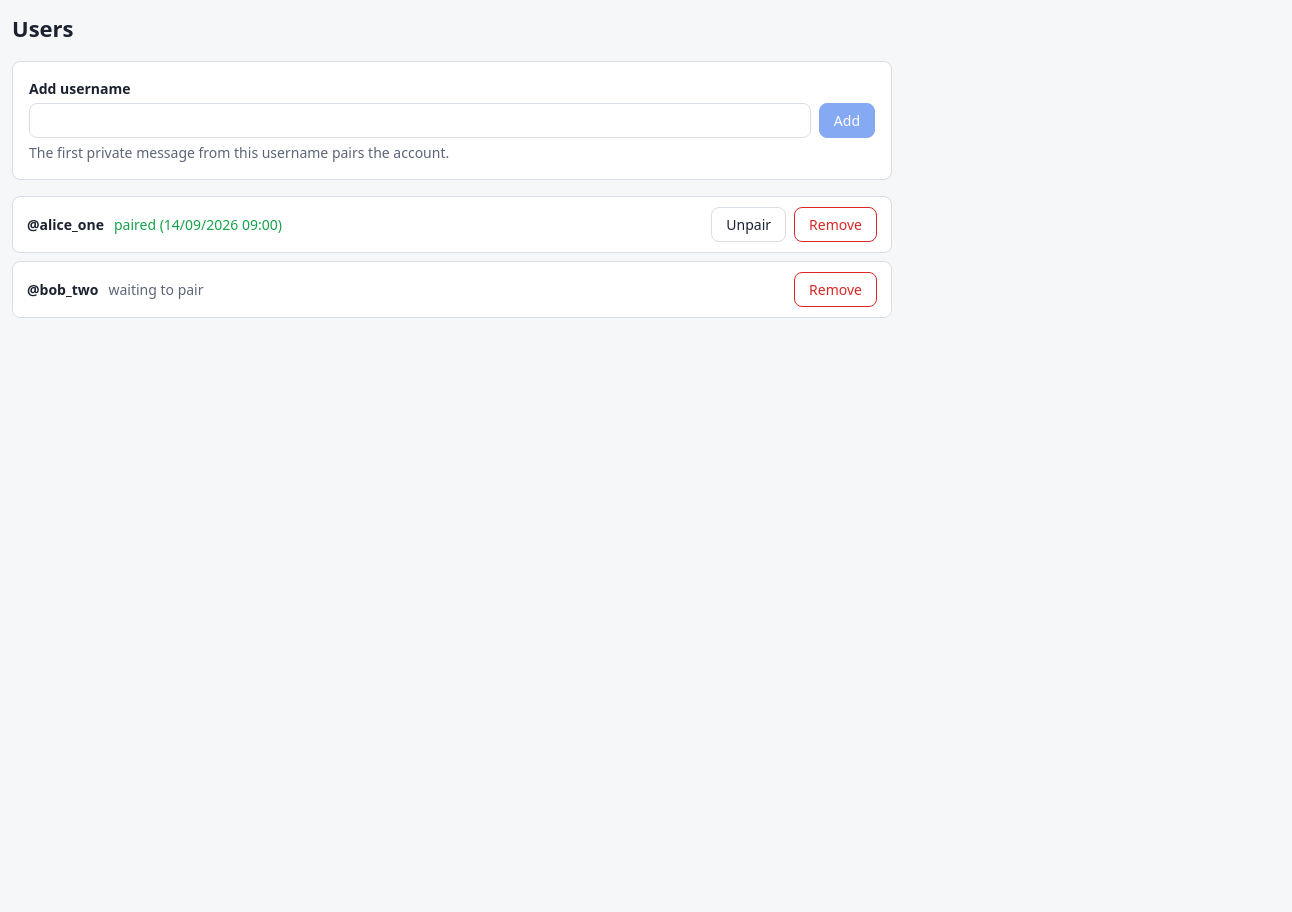
Test case: UsersScreen › unpairs a user and offers a restart when the running bot could not be told
Click the button "Unpair". click: (749, 224)
box: [711,207,786,242]
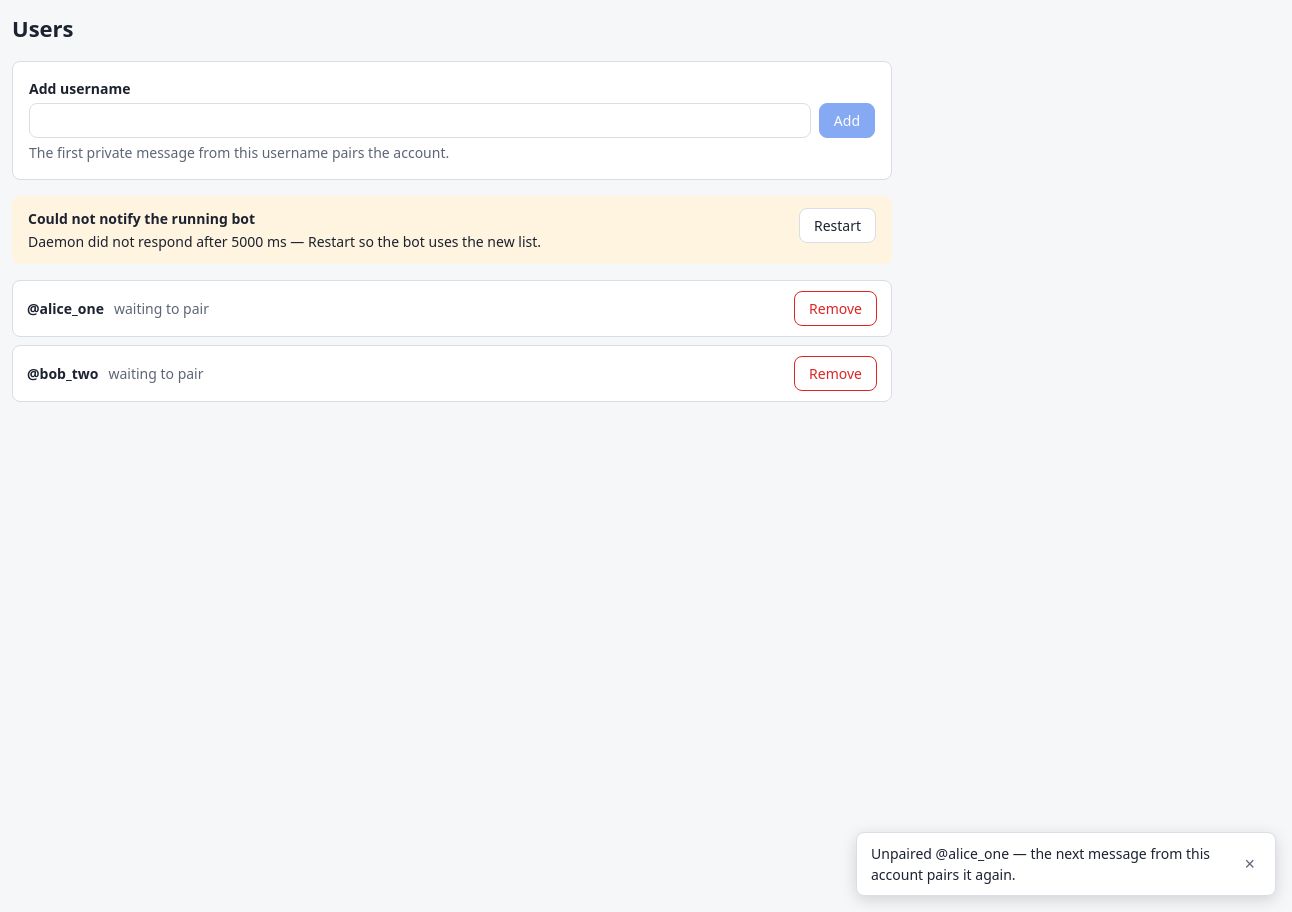
Check: the text "Daemon did not respond after 5000 ms — Restart so the bot uses the new list." is shown, box [28,232,541,251]
Check: the 1st text "waiting to pair" is shown, box [114,299,209,318]
Click the button "Restart". click: (837, 226)
box: [799,208,876,243]
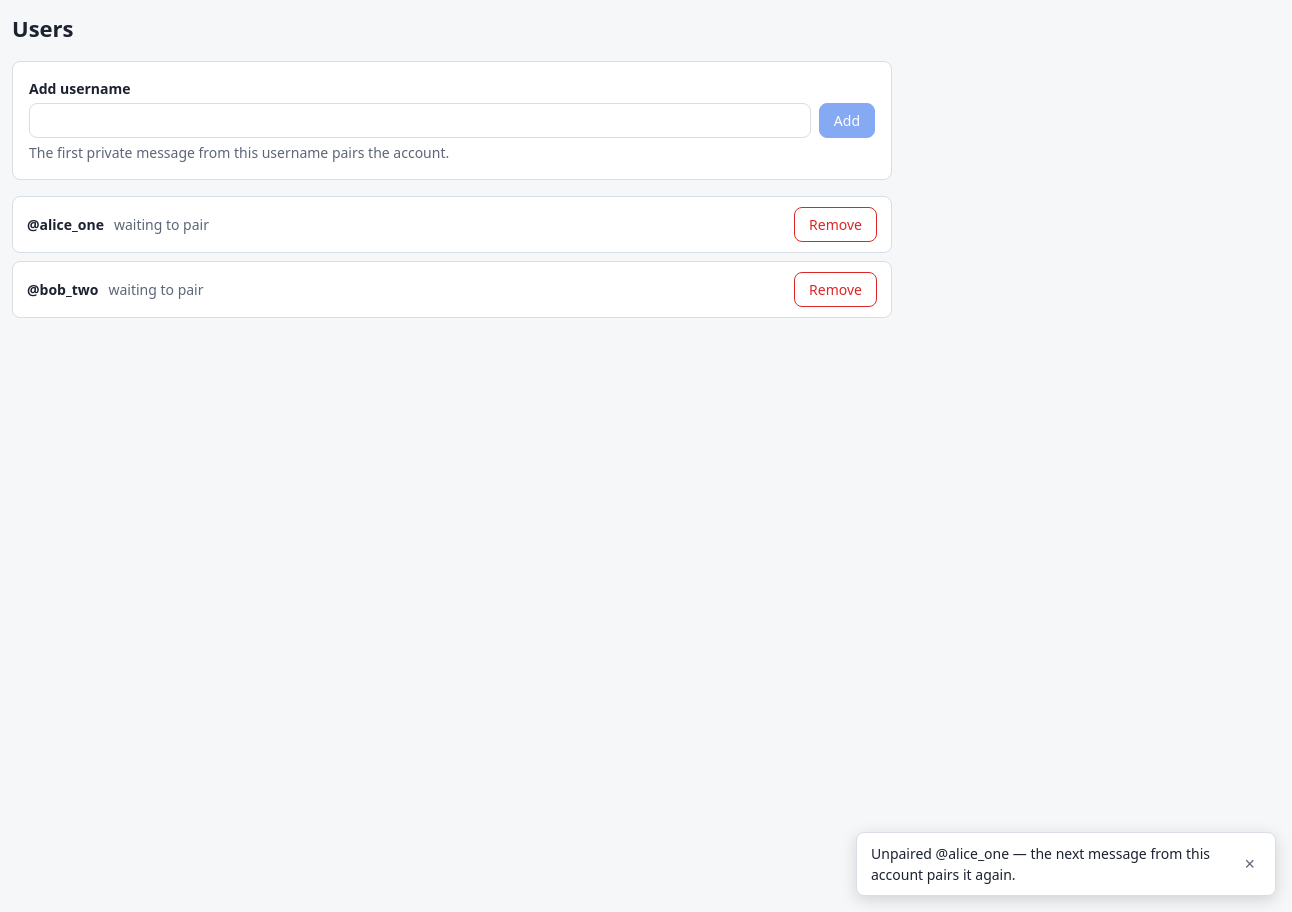
Check: the text "Restart so the bot uses the new list" is gone
